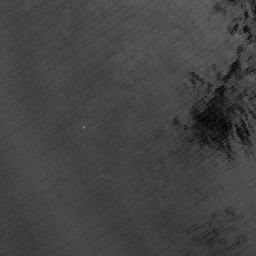Target: (80, 123, 87, 130)
